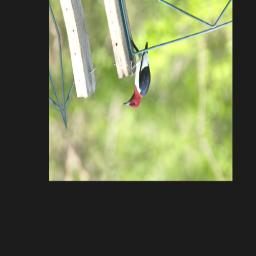Woodpecker: (113, 41, 159, 112)
